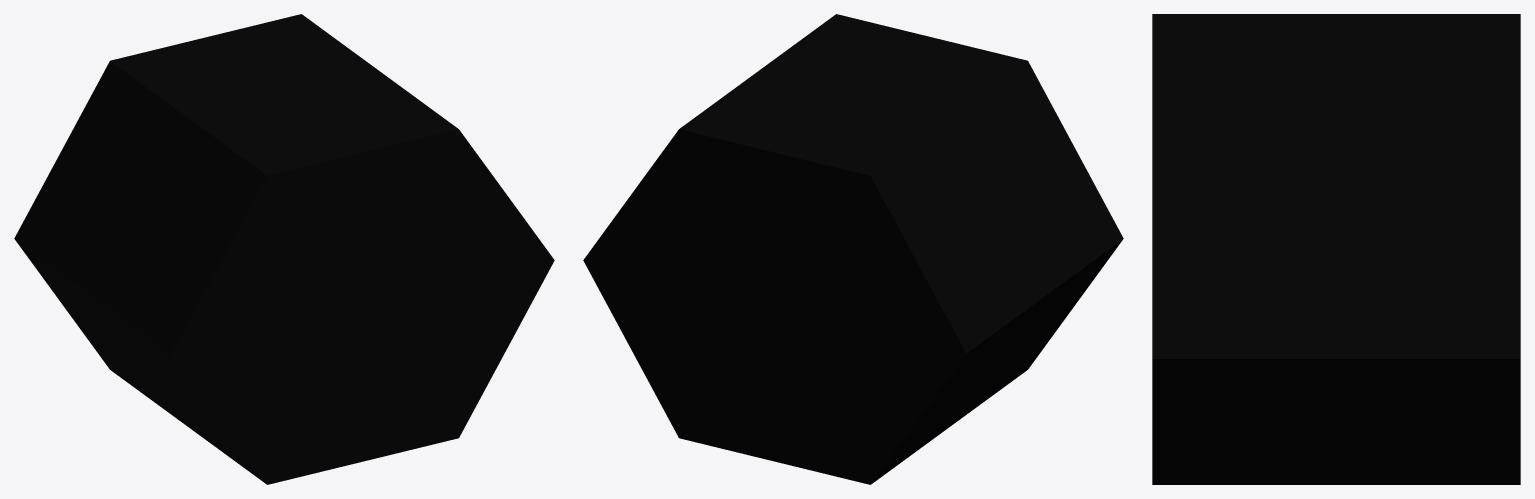
File: rod_left_sleeve.obj
3 views of the same model, side by side, from view 1: azimuth 30°, elevation 25°; view 2: azimuth 150°, elevation 25°; view 3: azimuth 270°, elevation 25° (orthographic). The views are drawn at different scales.
Parts seen in each view (by area): view 1: cylinder; view 2: cylinder; view 3: cylinder.
Part boxes in pixels (left/top/right/bottom): cylinder: left=14, top=14, right=554, bottom=484; cylinder: left=583, top=14, right=1123, bottom=484; cylinder: left=1152, top=14, right=1520, bottom=484.
Bounding box in the file's own units: 0.2108 × 0.1625 × 0.15.
